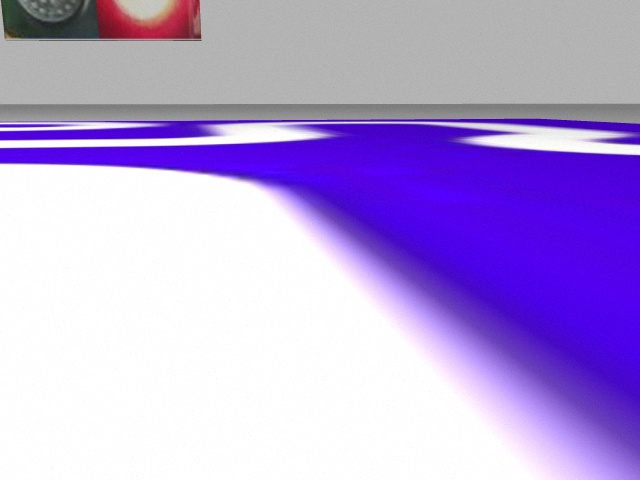red: (97, 1, 202, 43)
